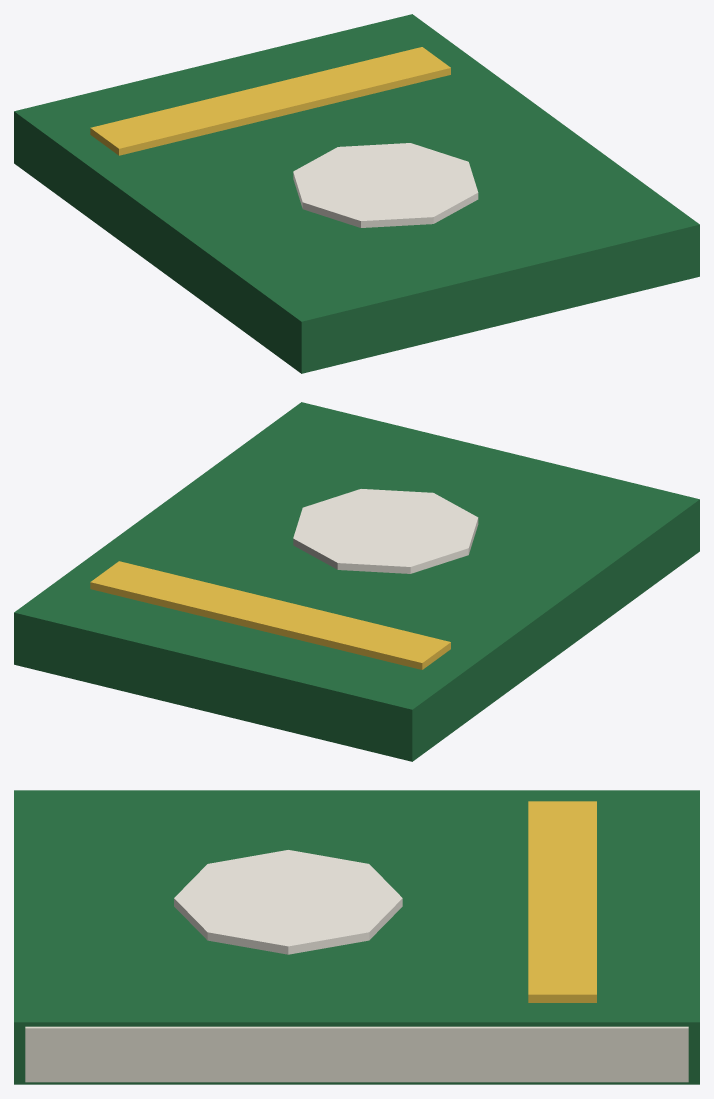
File: botanic_catalog.glb
3 views of the same model, one above another, from view 1: azimuth 30°, elevation 25°; view 2: azimuth 150°, elevation 25°; view 3: azimuth 270°, elevation 25° (orthographic). The views are drawn at different scales.
Parts seen in each view (by area): view 1: cover_catalog_cover, flower_catalog_flower, band_catalog_gold; view 2: cover_catalog_cover, flower_catalog_flower, band_catalog_gold; view 3: cover_catalog_cover, pages_catalog_pages, flower_catalog_flower, band_catalog_gold.
Boxes of the visible parts, left/top/right/bottom form: cover_catalog_cover: left=14, top=14, right=699, bottom=373; flower_catalog_flower: left=293, top=143, right=478, bottom=227; band_catalog_gold: left=90, top=47, right=450, bottom=155; cover_catalog_cover: left=14, top=402, right=699, bottom=761; flower_catalog_flower: left=293, top=489, right=478, bottom=573; band_catalog_gold: left=90, top=561, right=450, bottom=669; cover_catalog_cover: left=14, top=790, right=699, bottom=1084; pages_catalog_pages: left=25, top=1026, right=688, bottom=1082; flower_catalog_flower: left=174, top=850, right=402, bottom=954; band_catalog_gold: left=528, top=801, right=596, bottom=1002.
Bounding box in the file's own units: 0.242 × 0.034 × 0.3.
